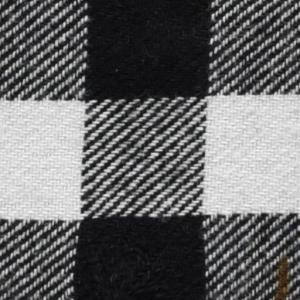Oil Stain: (275, 251, 295, 300)
